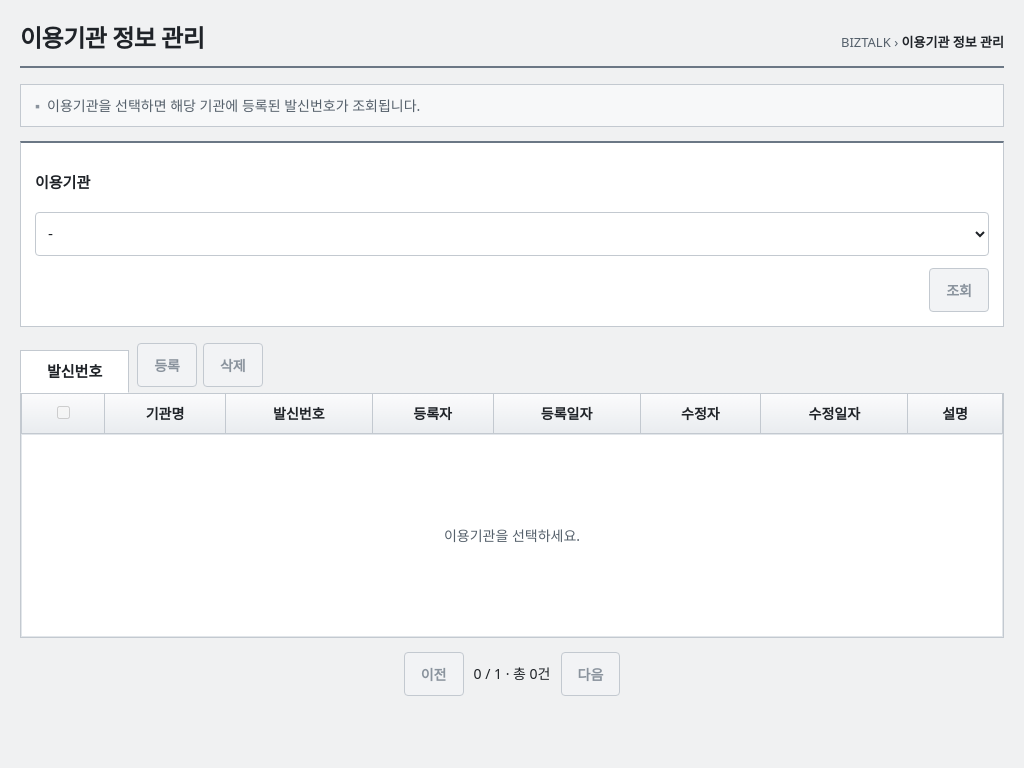
Test: SenderNumberPage › FR-SNDD-011 — 이용기관을 바꾸면 선택이 비워진다
Select "○○기관 (사용)" in the dropdown labelled "이용기관": (512, 234) [35,212,989,256]
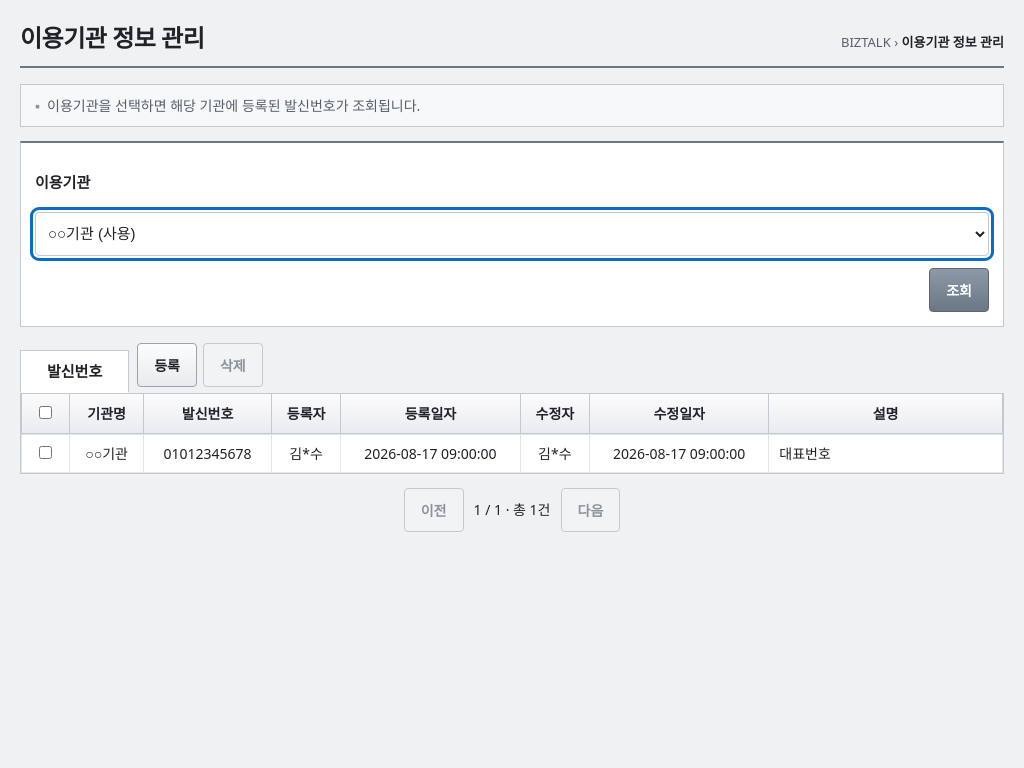
Click the checkbox named "01012345678 선택": click(46, 452) [39,446,52,458]
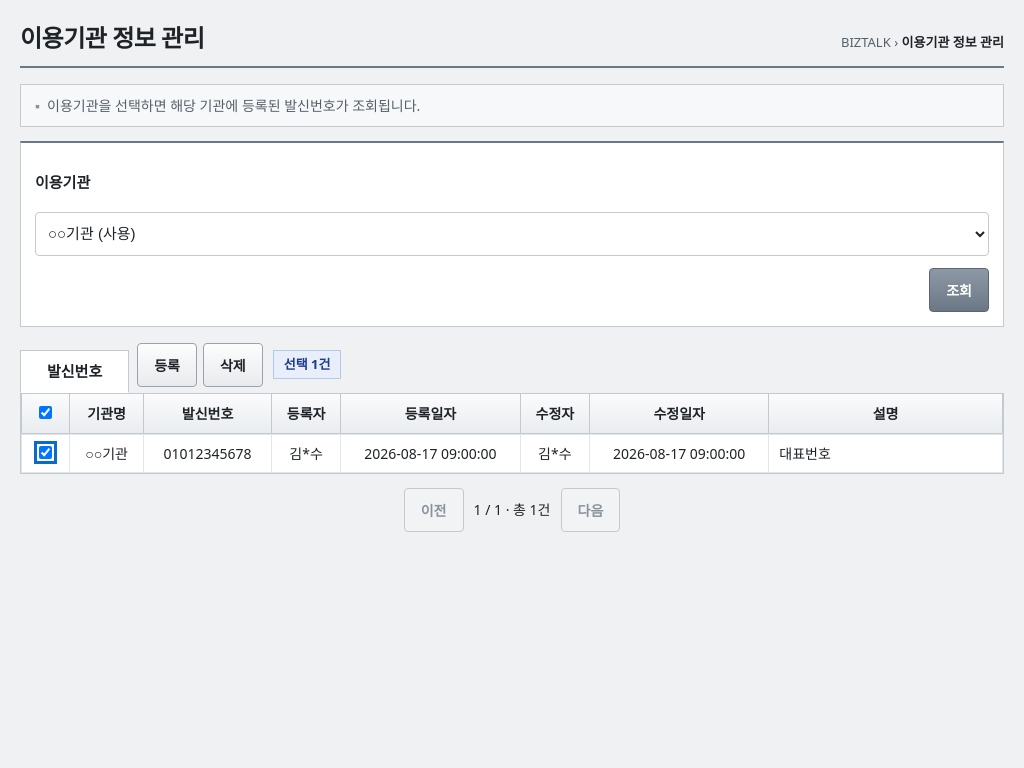
Now the text with test id "senderno-selected-count" reads "선택 1건", box [273,350,341,379]
Select "△△기관 (미사용)" in the dropdown labelled "이용기관": (512, 234) [35,212,989,256]
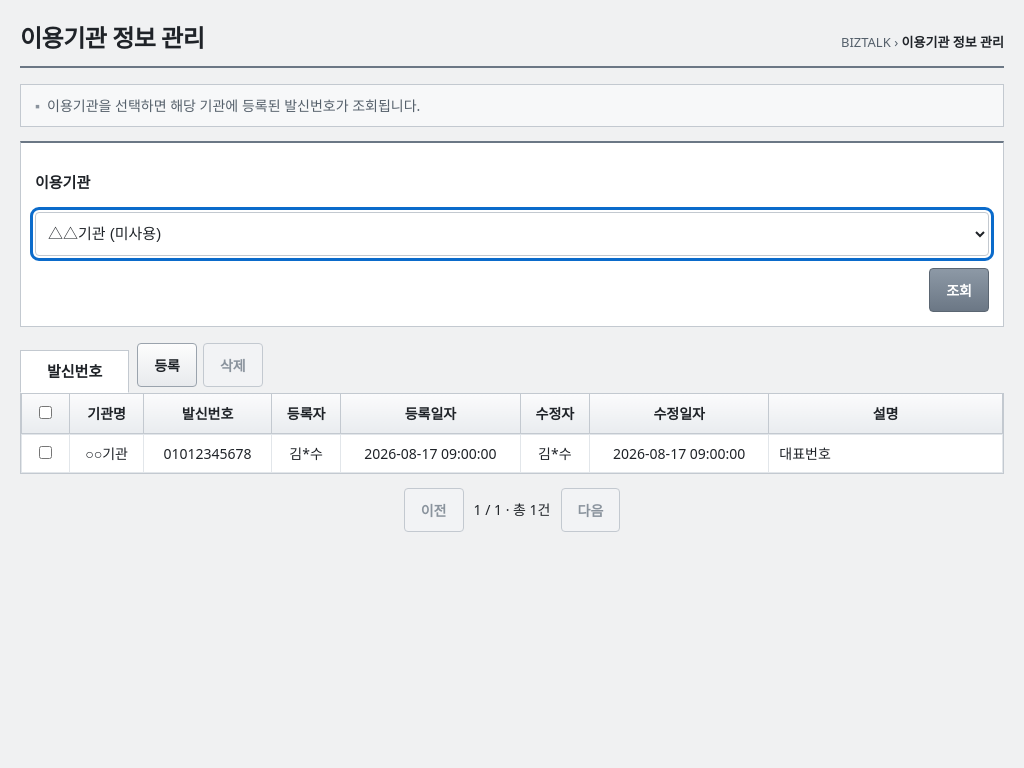
Now the text with test id "senderno-selected-count" is gone
Now the button "삭제" is disabled, box [203,342,263,386]
